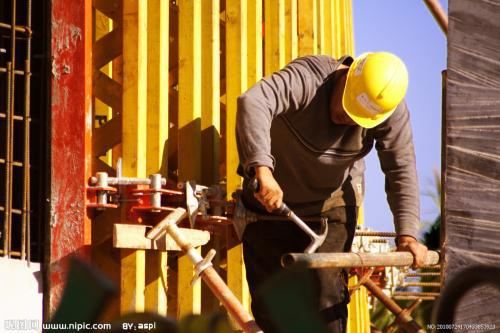helmet: (341, 46, 418, 148)
